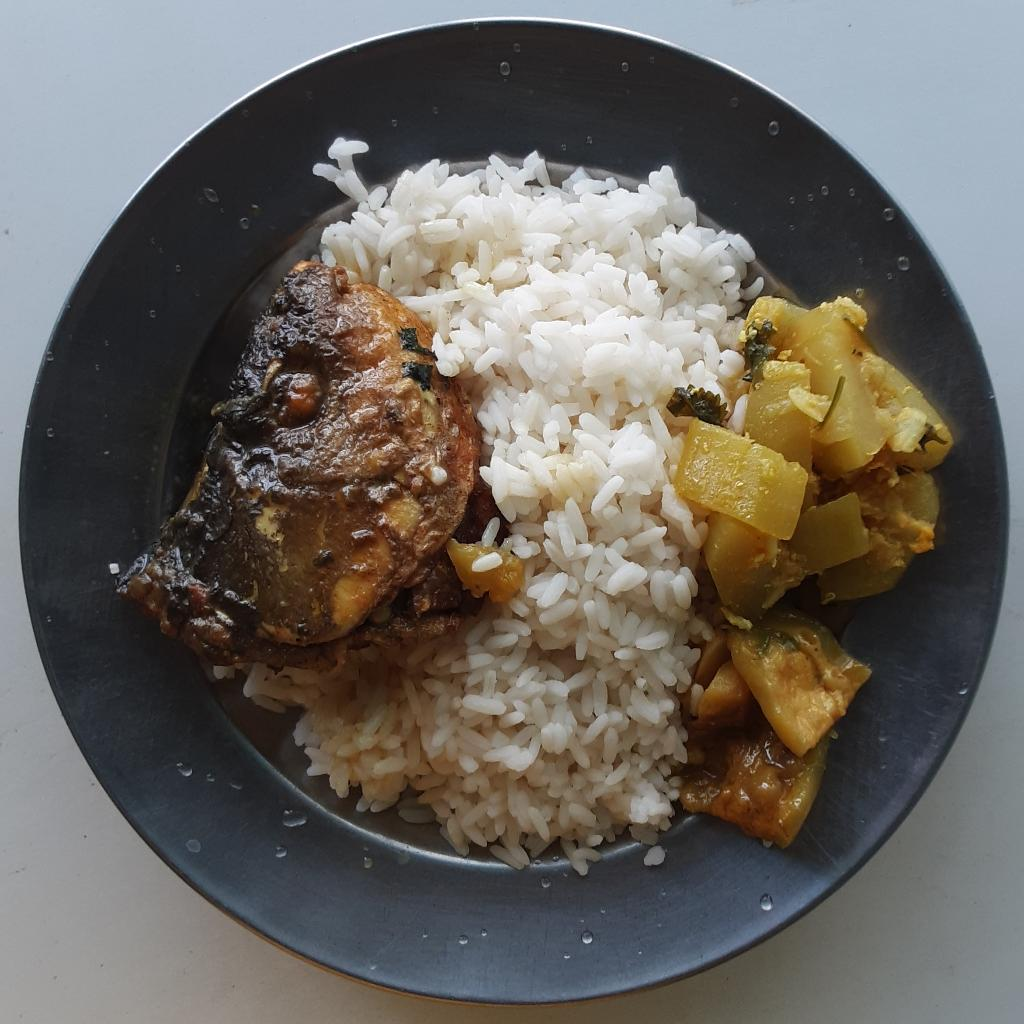fish: (115, 252, 502, 664)
papaya: (681, 299, 960, 625)
potol: (678, 609, 871, 850)
rice: (217, 136, 772, 872)
